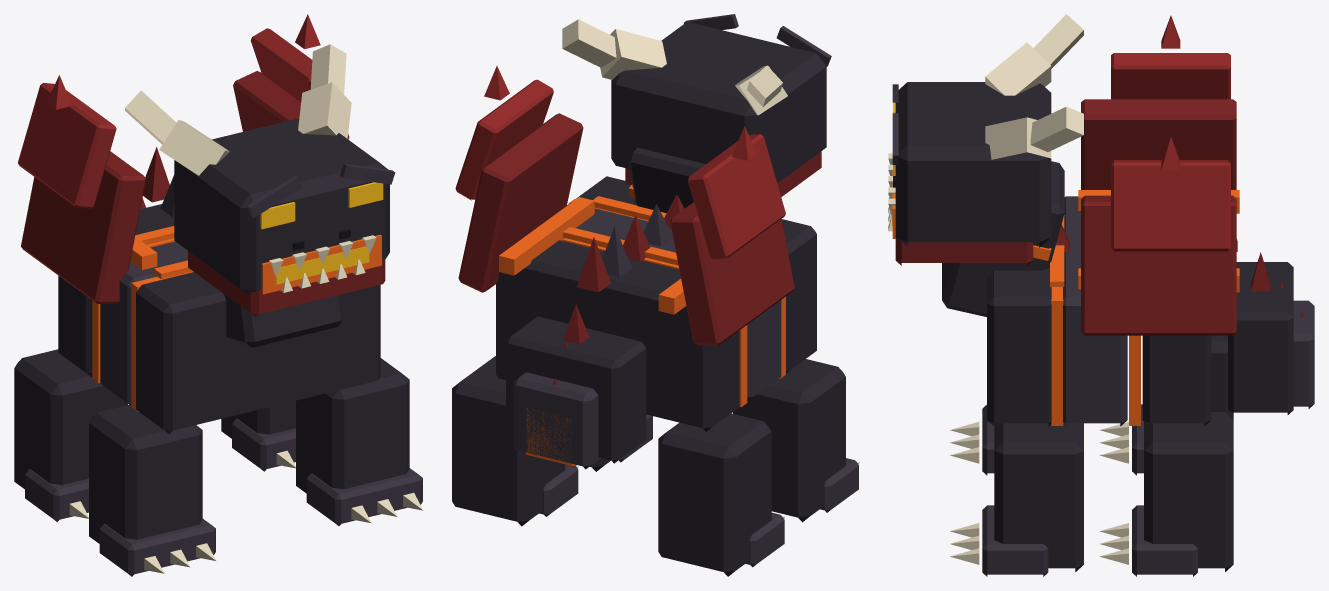
The model's file is r3_boss_magma_drake.glb.
3 views of the same model, side by side, from view 1: azimuth 30°, elevation 25°; view 2: azimuth 150°, elevation 25°; view 3: azimuth 270°, elevation 25° (orthographic).
Visible parts, largest first — view 1: r3_boss_magma_drake_mesh; view 2: r3_boss_magma_drake_mesh; view 3: r3_boss_magma_drake_mesh.
Part boxes in pixels (x1=…): r3_boss_magma_drake_mesh: x1=14, y1=14, x2=423, y2=576; r3_boss_magma_drake_mesh: x1=452, y1=14, x2=859, y2=576; r3_boss_magma_drake_mesh: x1=888, y1=14, x2=1314, y2=576.
Size of the model in its own units: 5.54 by 8 by 6.92.
Materials: 1 (1 with a texture image).
